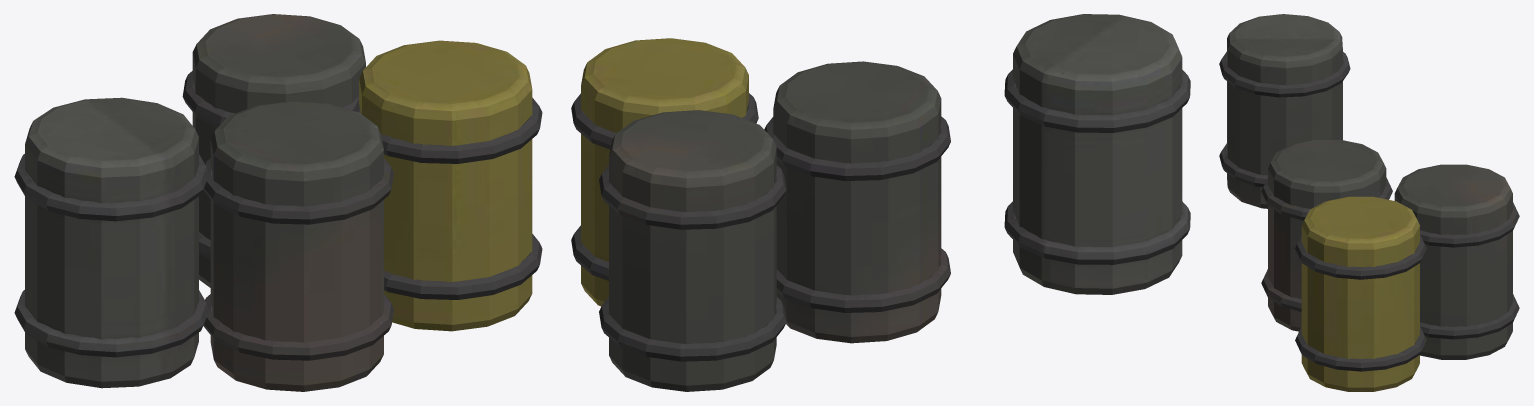
The model's file is prop-barrels.glb.
The picture shows the model from 3 angles, left to right: view 1: azimuth 30°, elevation 25°; view 2: azimuth 150°, elevation 25°; view 3: azimuth 270°, elevation 25°; orthographic projection. The views are drawn at different scales.
Parts seen in each view (by area): view 1: prop_barrels; view 2: prop_barrels; view 3: prop_barrels.
Part boxes in pixels (x1,y1,x2,y2): prop_barrels: [14, 14, 542, 391]; prop_barrels: [571, 14, 1190, 391]; prop_barrels: [1219, 14, 1519, 391].
Size of the model in its own units: 0.5157 by 0.27 by 0.3557.
1 material, 1 textured.
